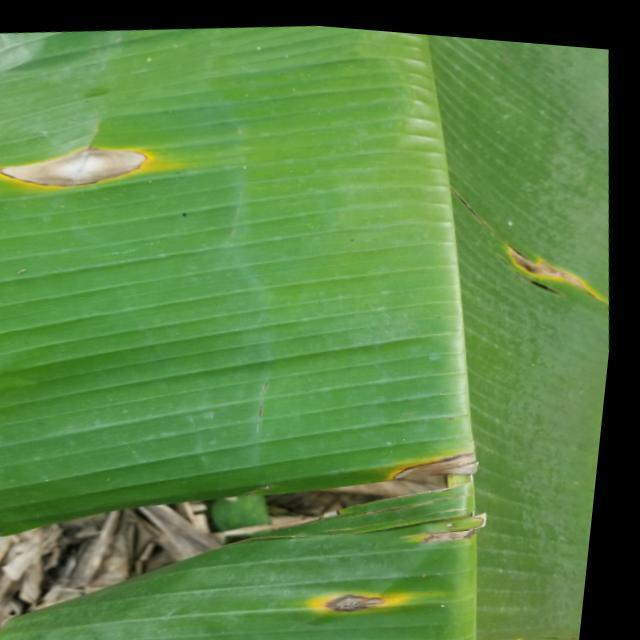Early_rust: (290, 429, 514, 633), (0, 128, 164, 216), (489, 228, 613, 325)
